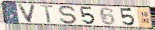5: (119, 8, 136, 27), (79, 7, 96, 25)
6: (100, 7, 117, 26)
S: (57, 5, 79, 25)
T: (39, 4, 55, 24)
V: (17, 4, 37, 24)
